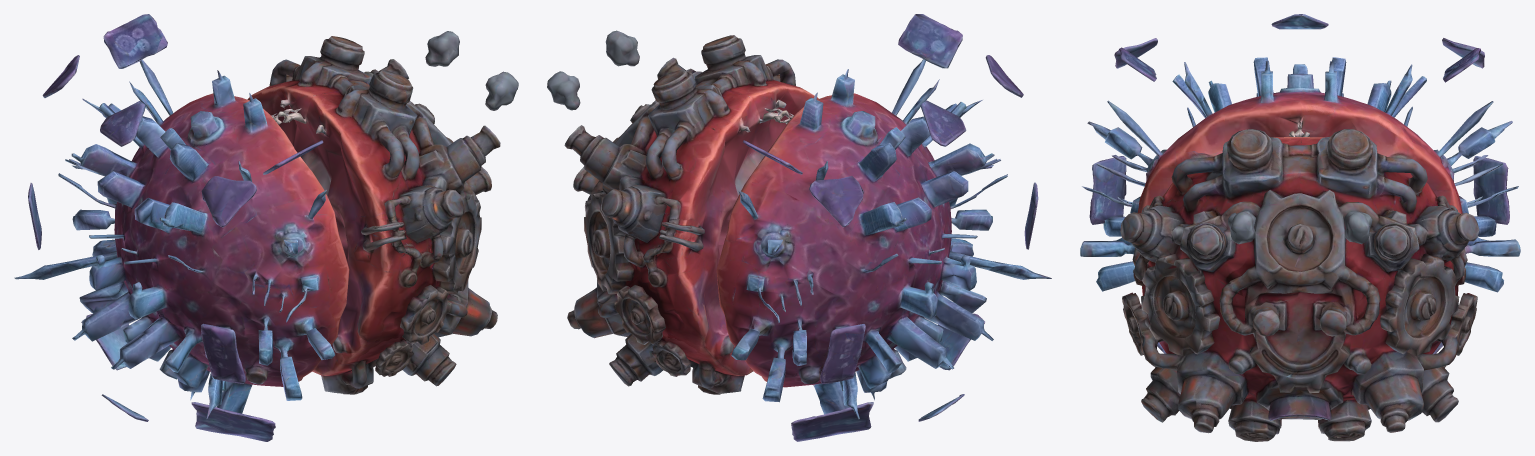
The model's file is project-planet.glb.
3 renders of one model, left to right at view 1: azimuth 30°, elevation 25°; view 2: azimuth 150°, elevation 25°; view 3: azimuth 270°, elevation 25°, orthographic.
Visible parts, largest first — view 1: mesh_node; view 2: mesh_node; view 3: mesh_node.
Part boxes in pixels (<box>): mesh_node: <box>14,14,518,441</box>; mesh_node: <box>547,14,1051,441</box>; mesh_node: <box>1080,14,1520,441</box>.
Size of the model in its own units: 1.85 by 1.48 by 1.75.
1 material, 1 textured.
